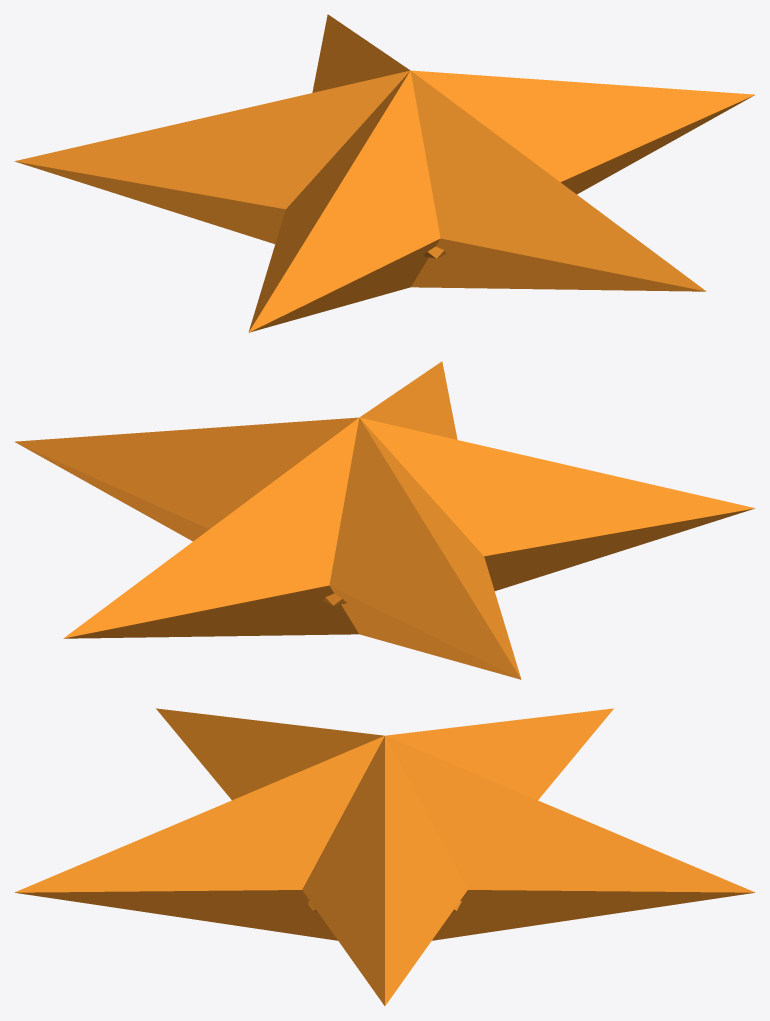
File: starfish.glb
The picture shows the model from 3 angles, top to bottom: view 1: azimuth 30°, elevation 25°; view 2: azimuth 150°, elevation 25°; view 3: azimuth 270°, elevation 25°; orthographic projection. The views are drawn at different scales.
Parts seen in each view (by area): view 1: starfish; view 2: starfish; view 3: starfish.
Part boxes in pixels (bbox=[...]): starfish: bbox=[14, 14, 755, 332]; starfish: bbox=[14, 361, 755, 679]; starfish: bbox=[14, 708, 755, 1005].
Bounding box in the file's own units: 0.3618 × 0.12 × 0.3804.
